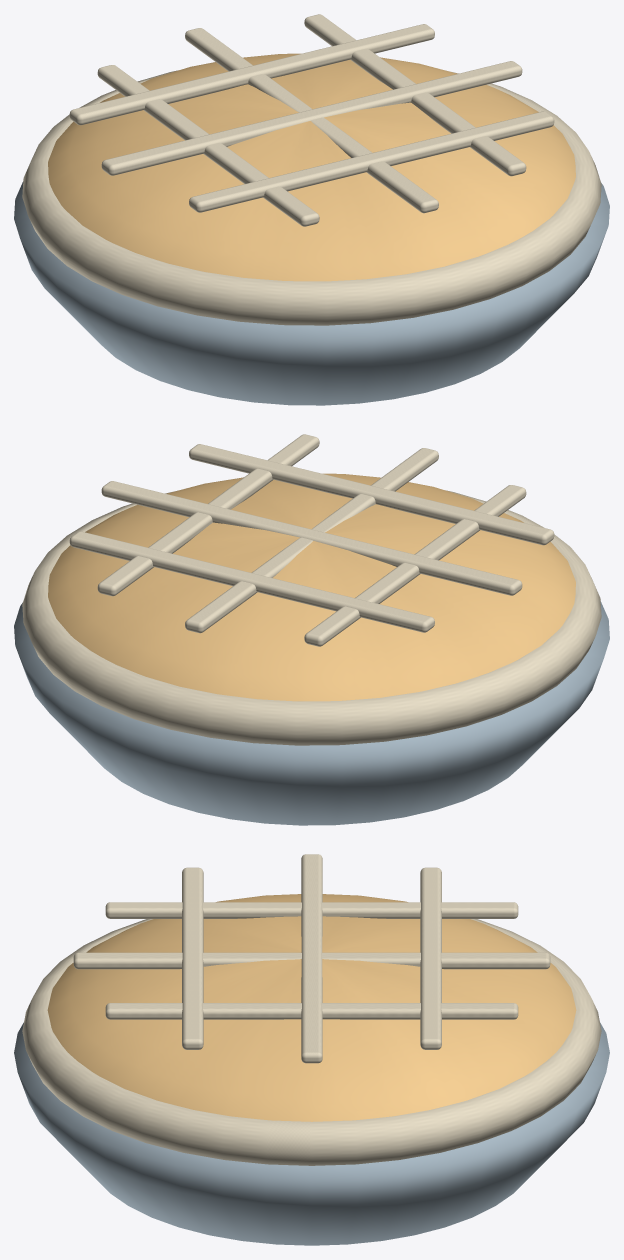
Rendered from PIE.glb.
3 renders of one model, top to bottom at view 1: azimuth 30°, elevation 25°; view 2: azimuth 150°, elevation 25°; view 3: azimuth 270°, elevation 25°, orthographic.
Visible parts, largest first — view 1: PIE; view 2: PIE; view 3: PIE.
Part boxes in pixels (bbox=[...]): PIE: bbox=[14, 14, 609, 405]; PIE: bbox=[14, 434, 609, 825]; PIE: bbox=[14, 854, 609, 1245].
Bounding box in the file's own units: 0.5 × 0.182 × 0.5.
3 materials, 2 textured.
